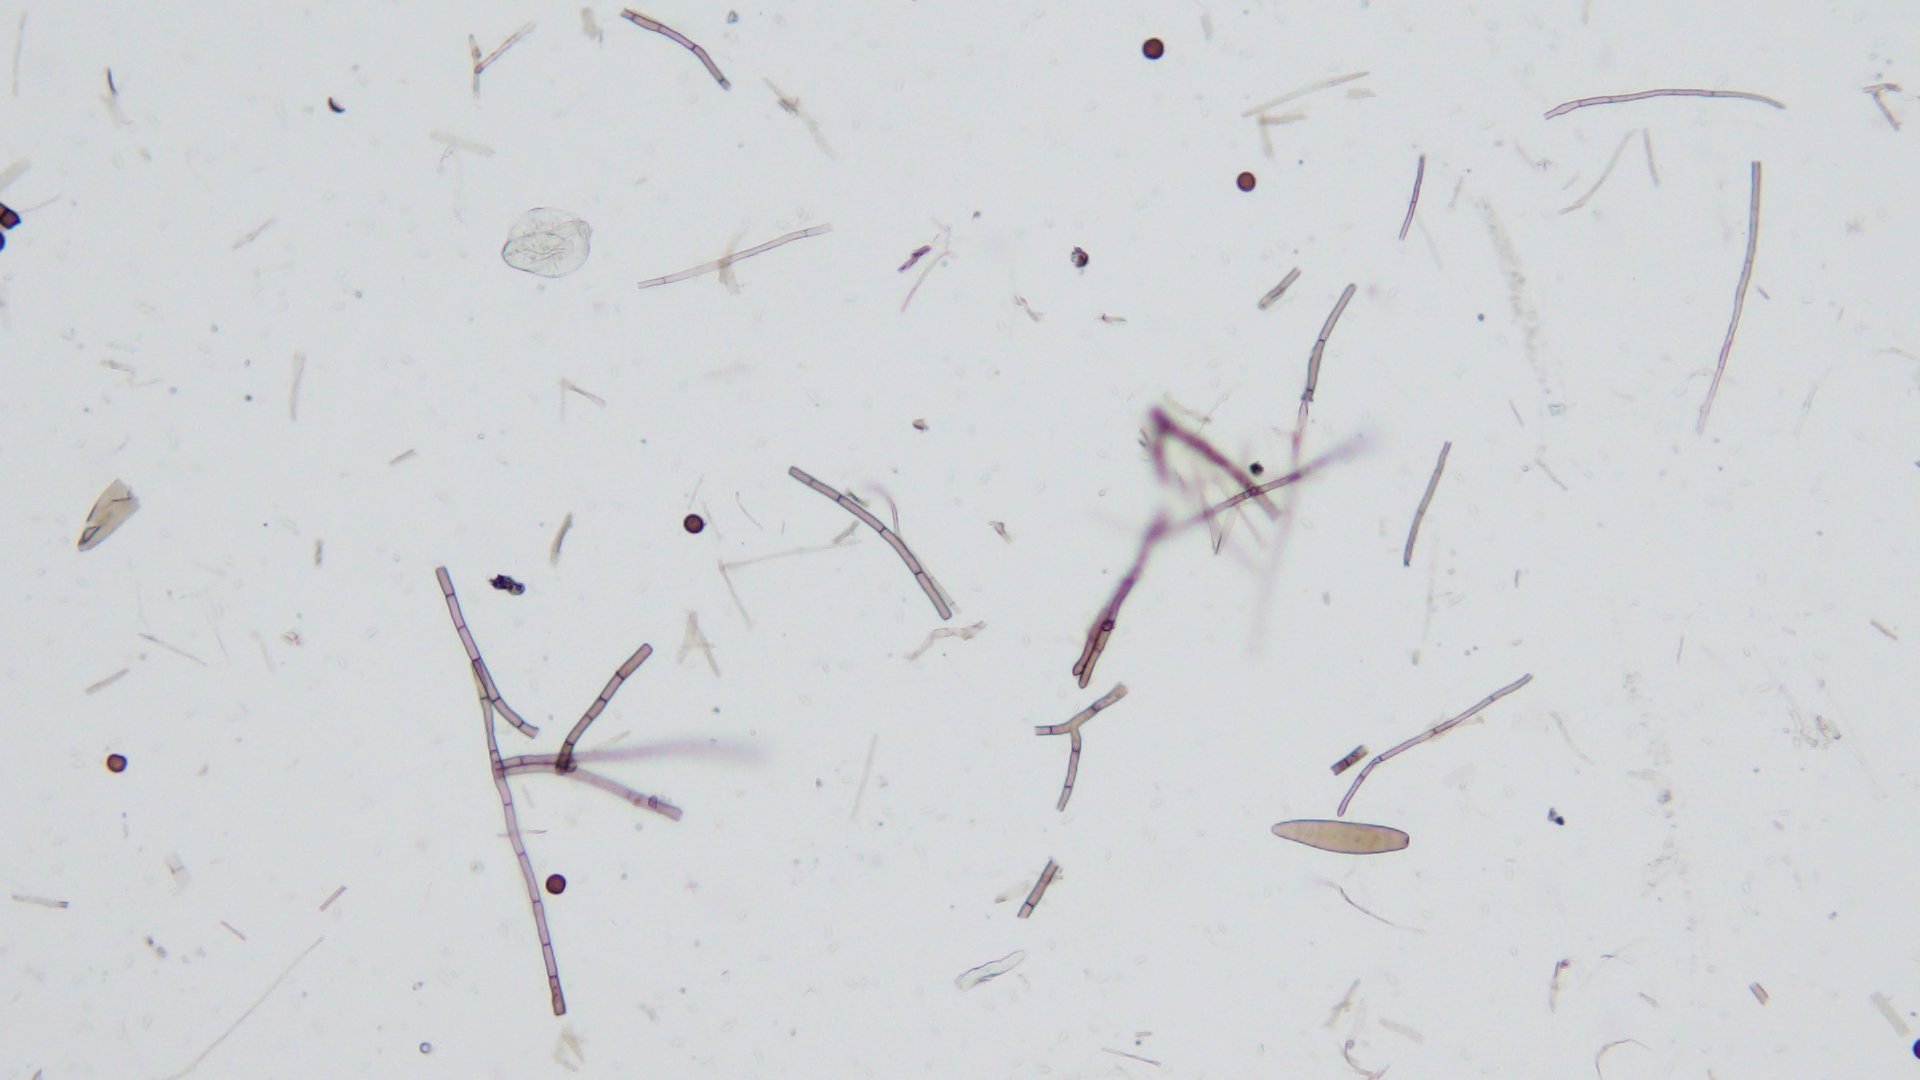dbb_spore: (1270, 815, 1411, 853)
shs_spore: (543, 872, 567, 895), (1139, 38, 1163, 58), (1236, 171, 1257, 193), (683, 514, 704, 533), (105, 756, 127, 773)
